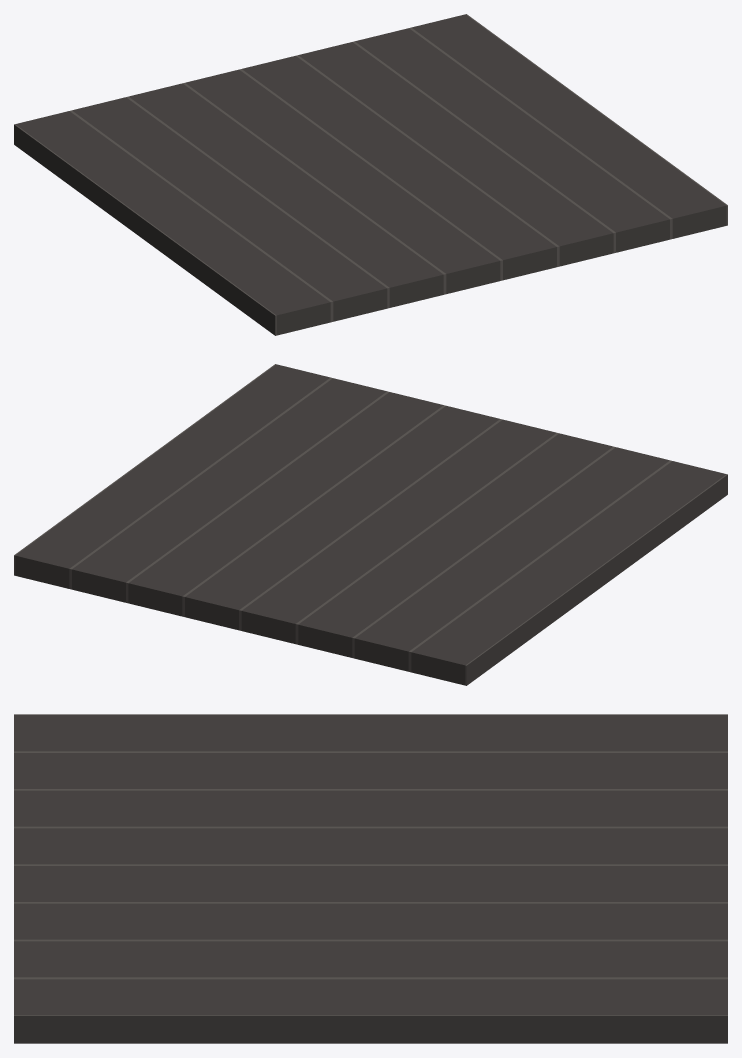
The model's file is Floor_07.fbx.
3 views of the same model, one above another, from view 1: azimuth 30°, elevation 25°; view 2: azimuth 150°, elevation 25°; view 3: azimuth 270°, elevation 25° (orthographic). The views are drawn at different scales.
Parts seen in each view (by area): view 1: Floor_07; view 2: Floor_07; view 3: Floor_07.
Part boxes in pixels (box(x1,y1,x2,y2)): Floor_07: box(14, 14, 727, 335); Floor_07: box(14, 364, 727, 685); Floor_07: box(14, 714, 727, 1043).
Bounding box in the file's own units: 259 × 11.07 × 259.
